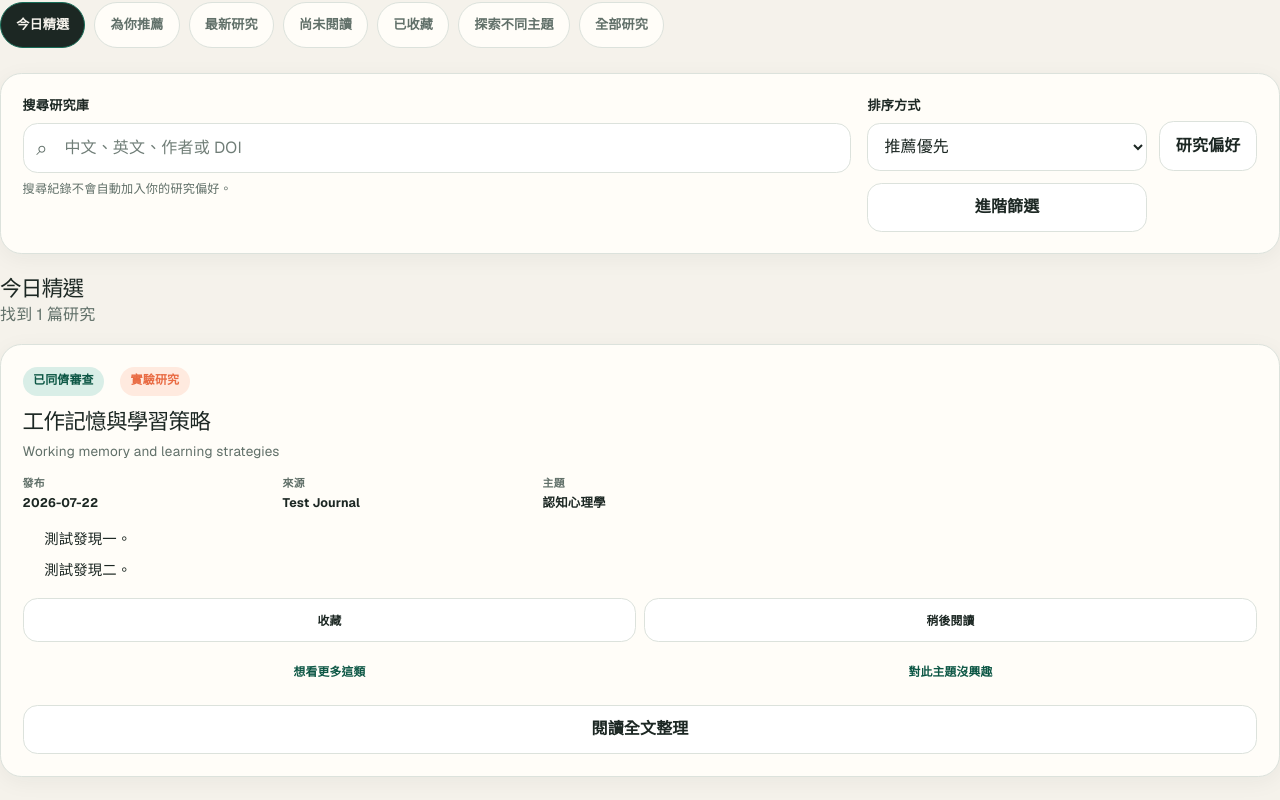
Scenario: ResearchList › filters without losing the verified card metadata
Check: the heading "工作記憶與學習策略" is shown, box [23,407,210,435]
What coordinates should you click on to do the following:
click the button "進階篩選"
I would click on:
 (1007, 207)
Its box is [867,183,1147,232].
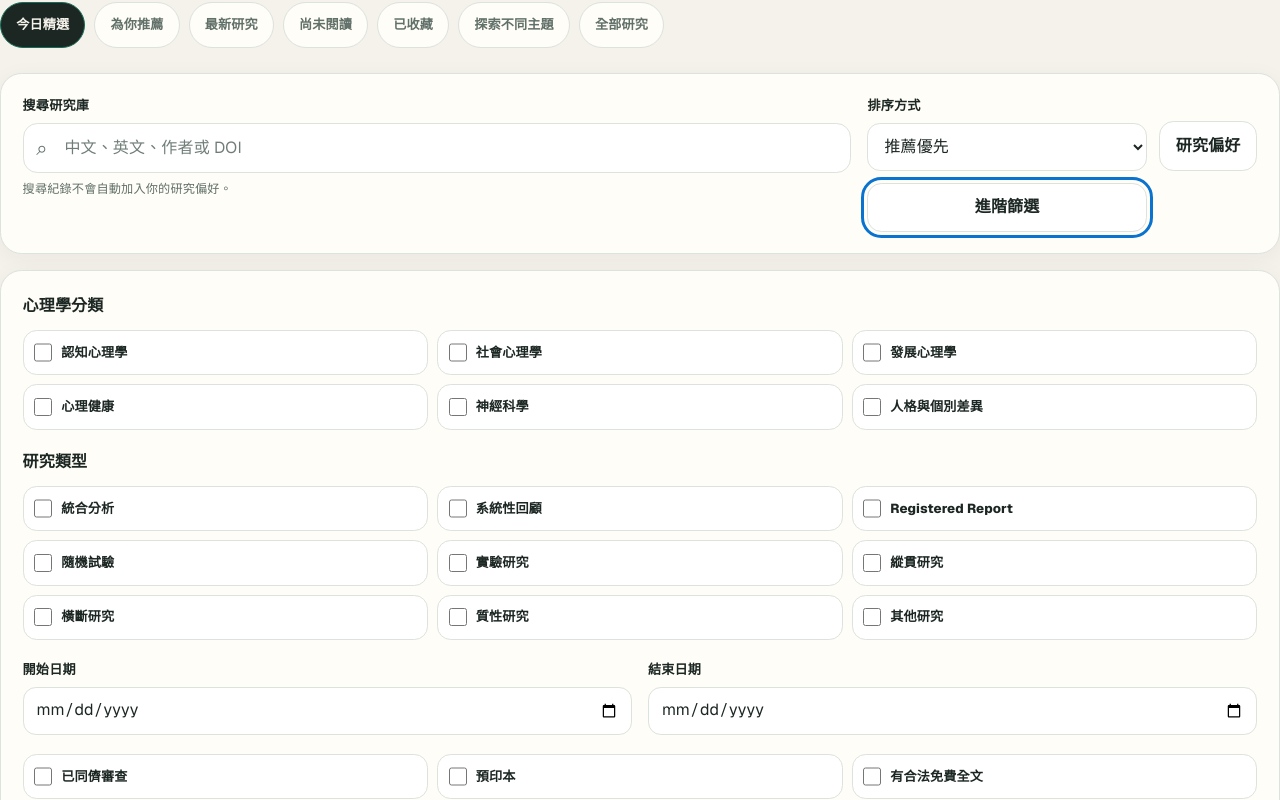
What coordinates should you click on to do the following:
click the checkbox labelled "預印本"
I would click on:
 (458, 776)
Its box is [448,767,467,786].
(page scrolled)
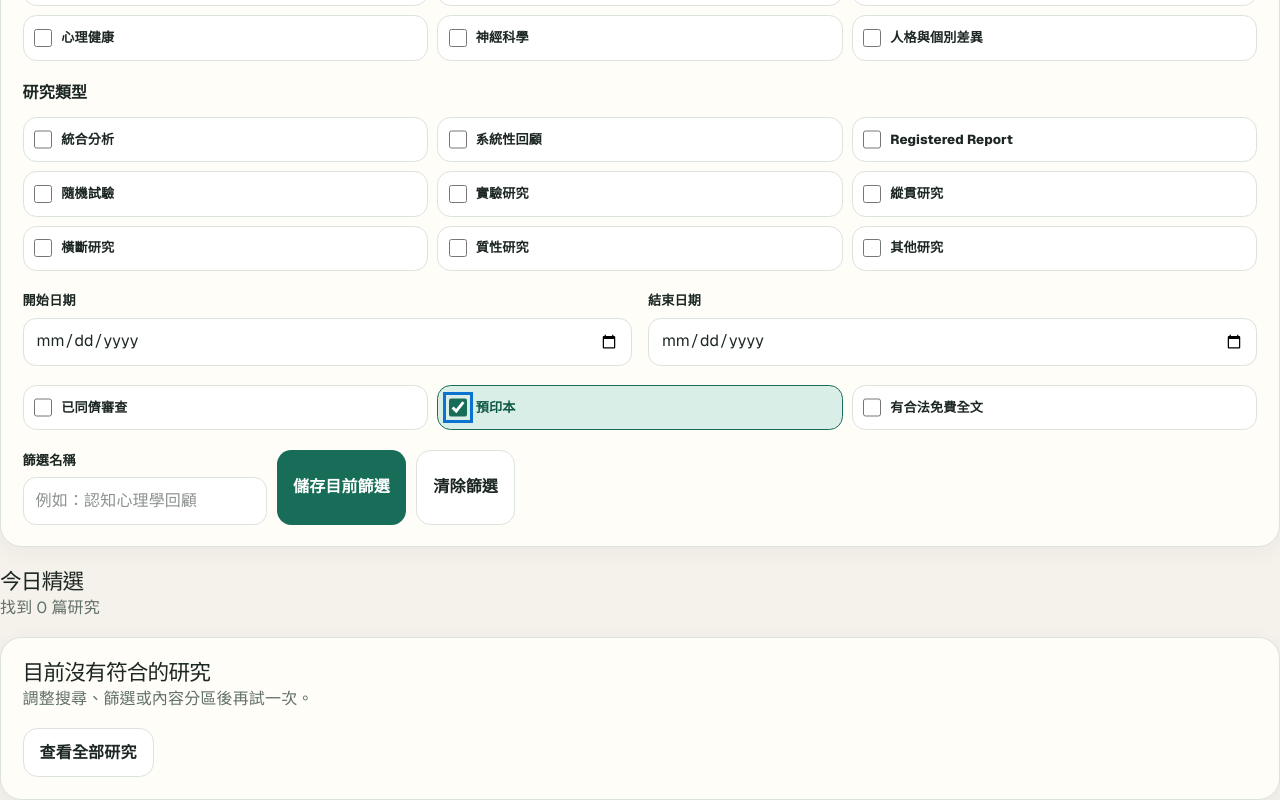
Check: the heading "目前沒有符合的研究" is shown, box [23,658,210,686]
